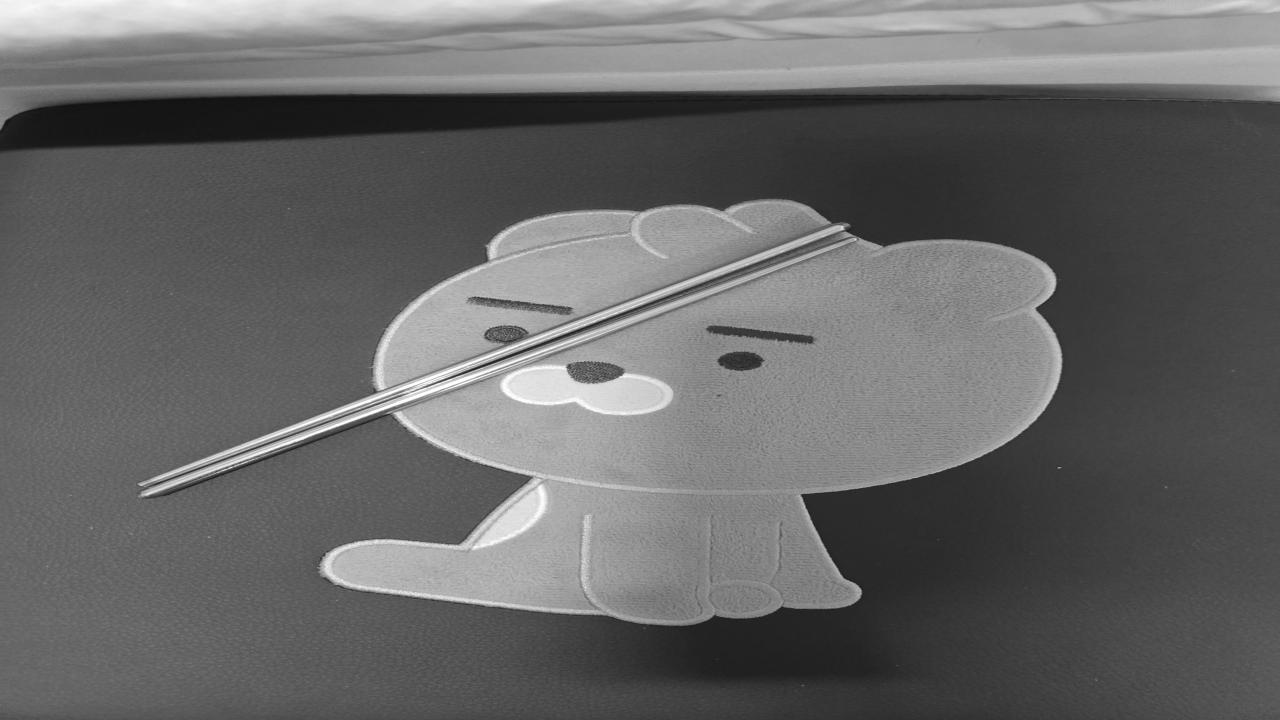chopstick: (125, 224, 856, 500)
